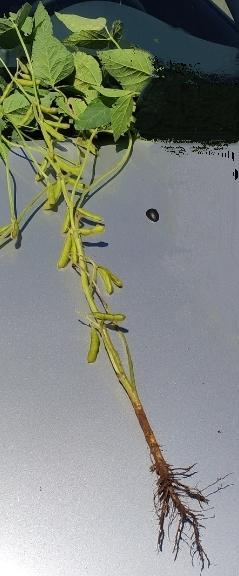soja: (86, 326, 104, 370), (57, 234, 74, 276), (88, 306, 127, 324), (72, 225, 110, 241), (105, 268, 127, 295), (76, 207, 107, 225), (41, 190, 64, 214), (42, 125, 70, 142), (43, 119, 75, 133), (43, 183, 59, 209), (70, 243, 85, 270), (10, 78, 45, 89), (101, 272, 114, 299), (18, 105, 32, 130), (35, 158, 52, 178), (39, 104, 62, 116), (10, 220, 24, 239), (22, 71, 32, 81)
